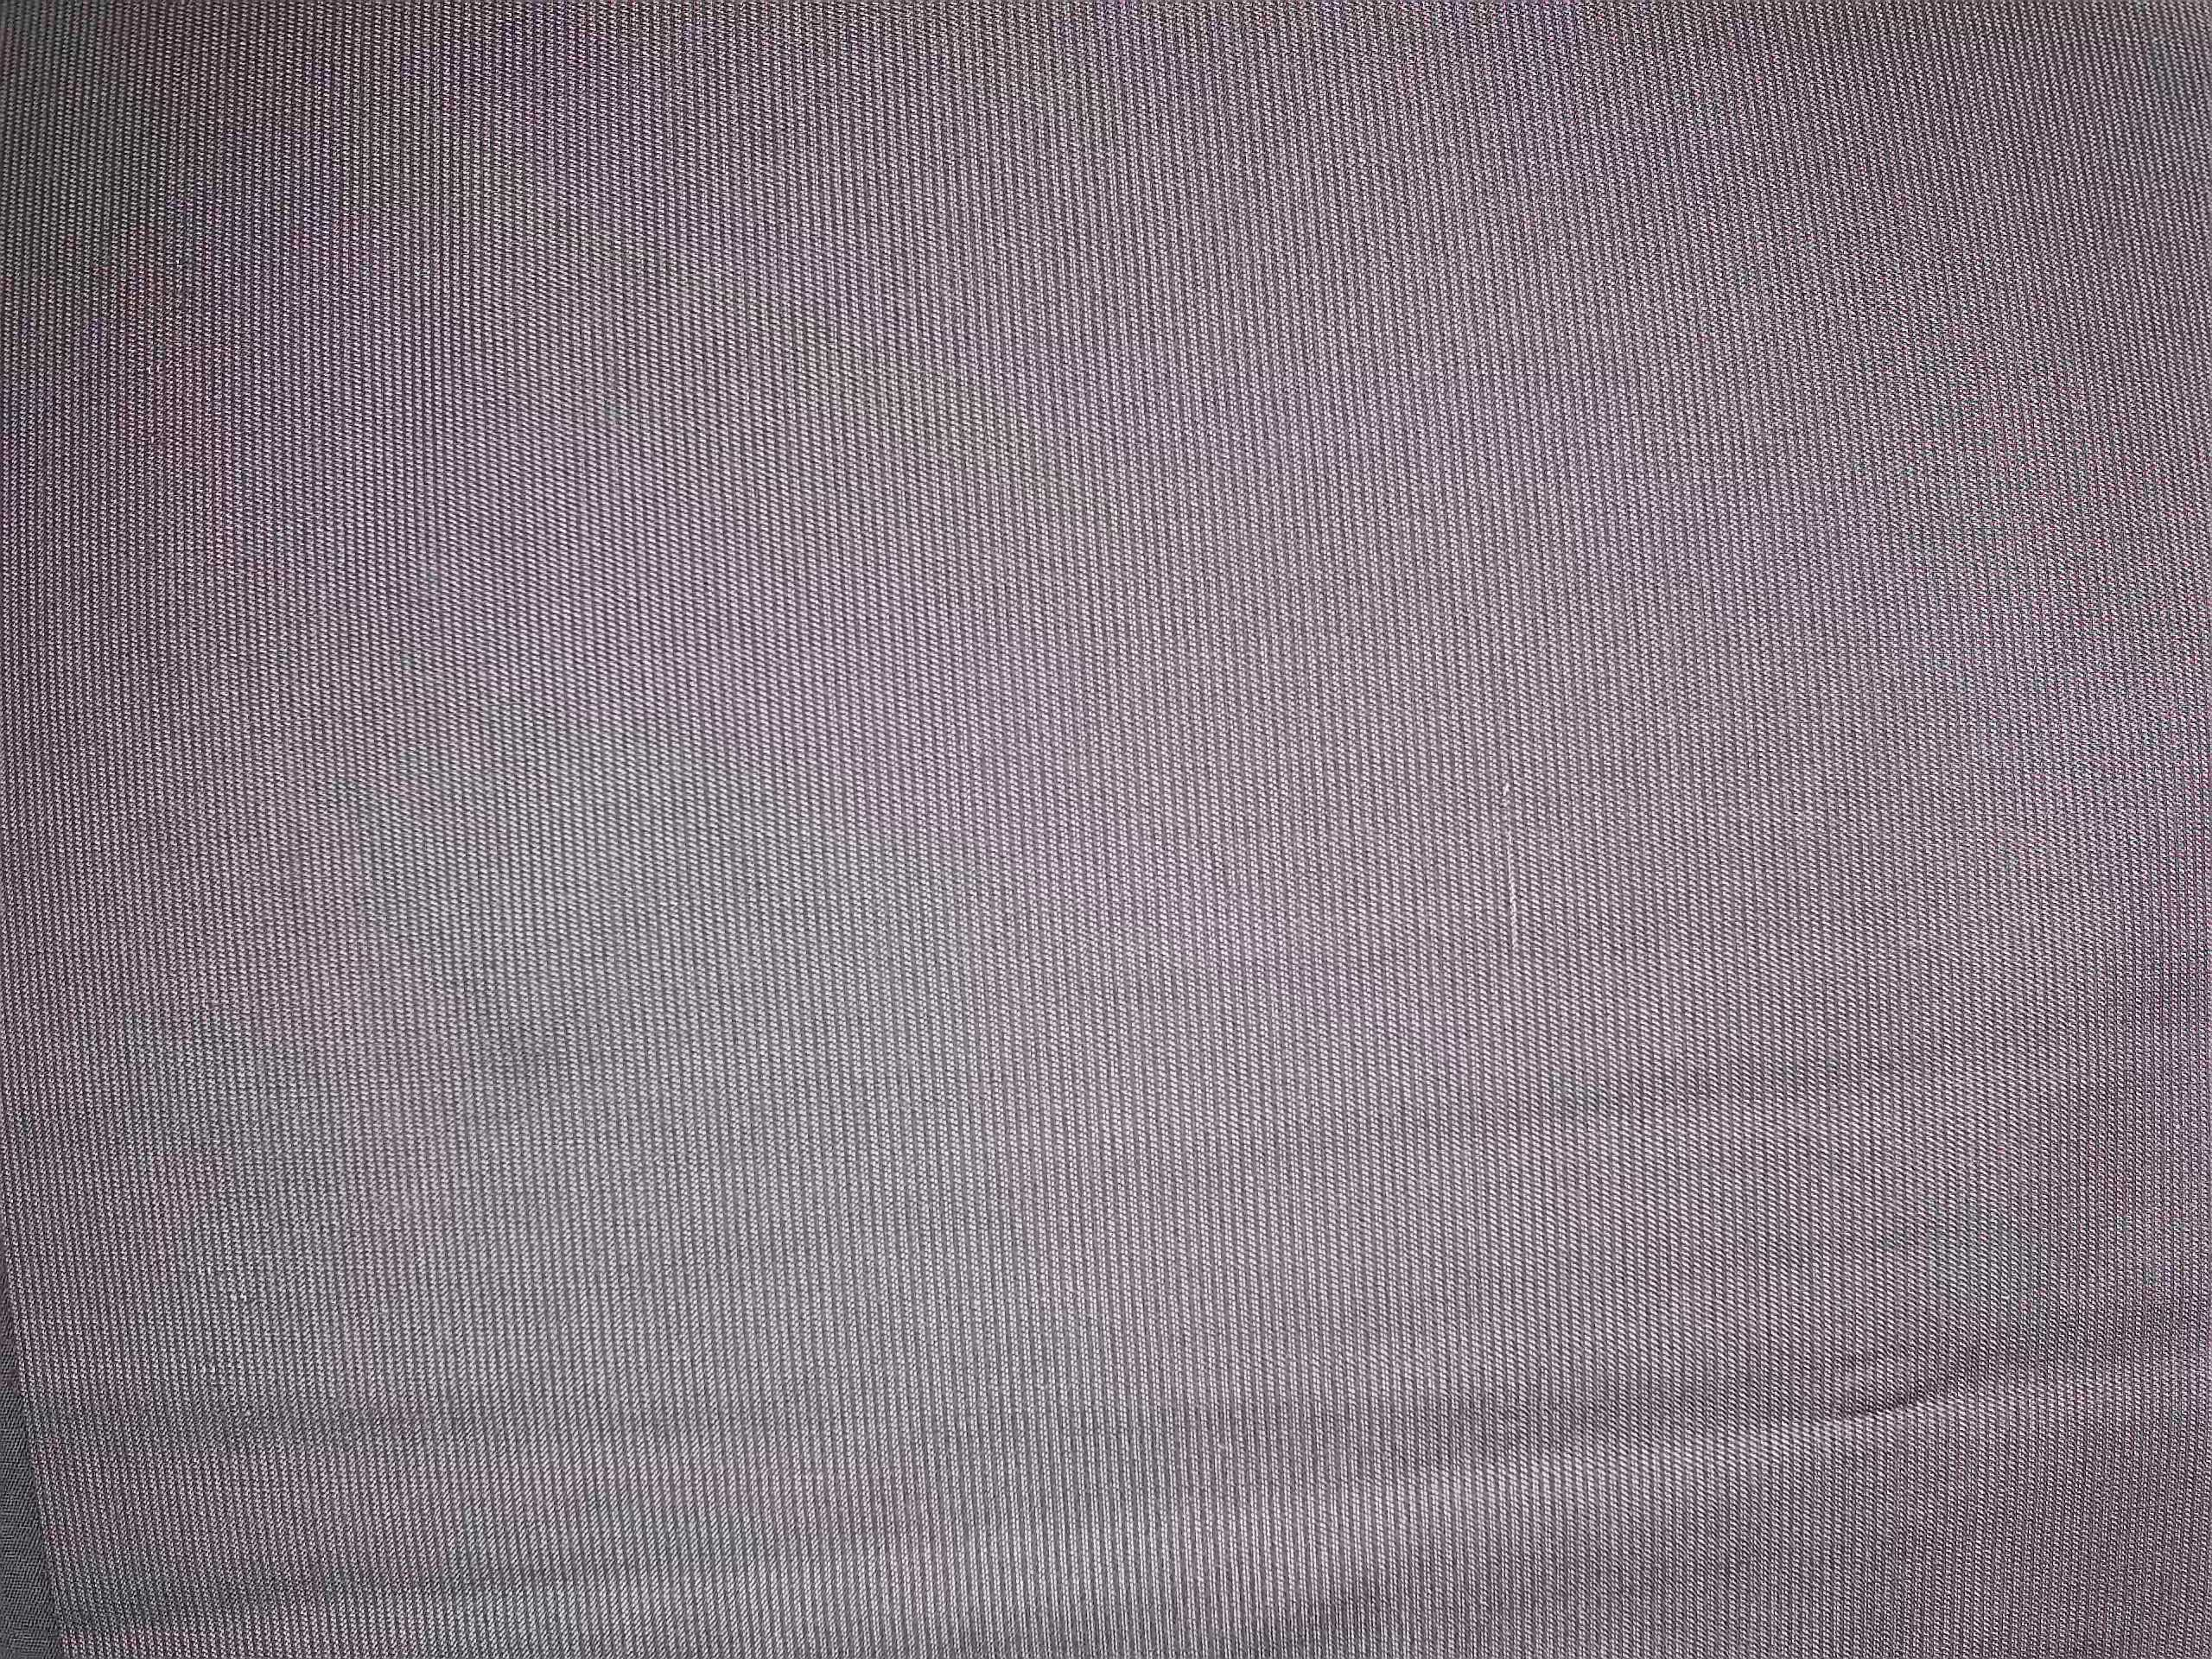jumps: (1496, 774, 1531, 983)
